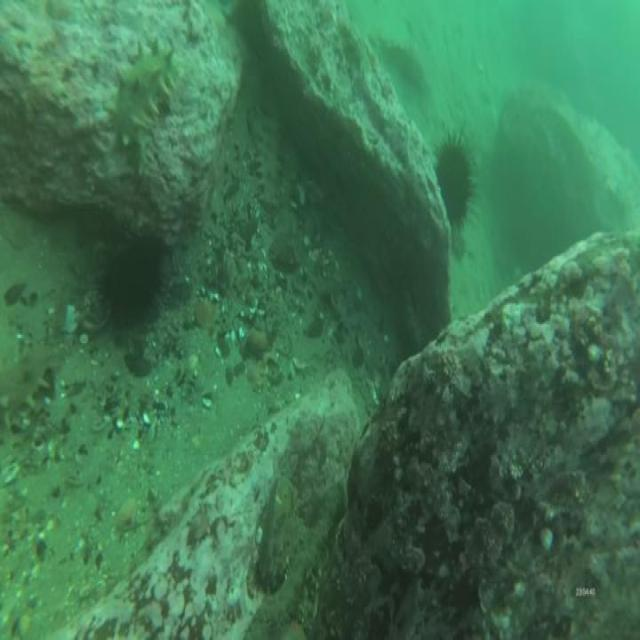echinus: (103, 237, 164, 324), (437, 142, 471, 221)
holothurian: (113, 41, 180, 172), (0, 348, 54, 432), (256, 90, 284, 212)
